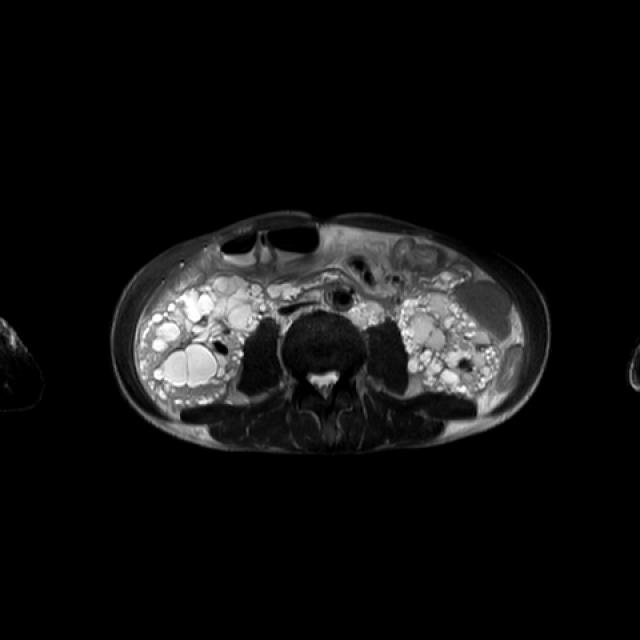sag: (140, 273, 269, 405)
sol: (400, 291, 501, 397)
